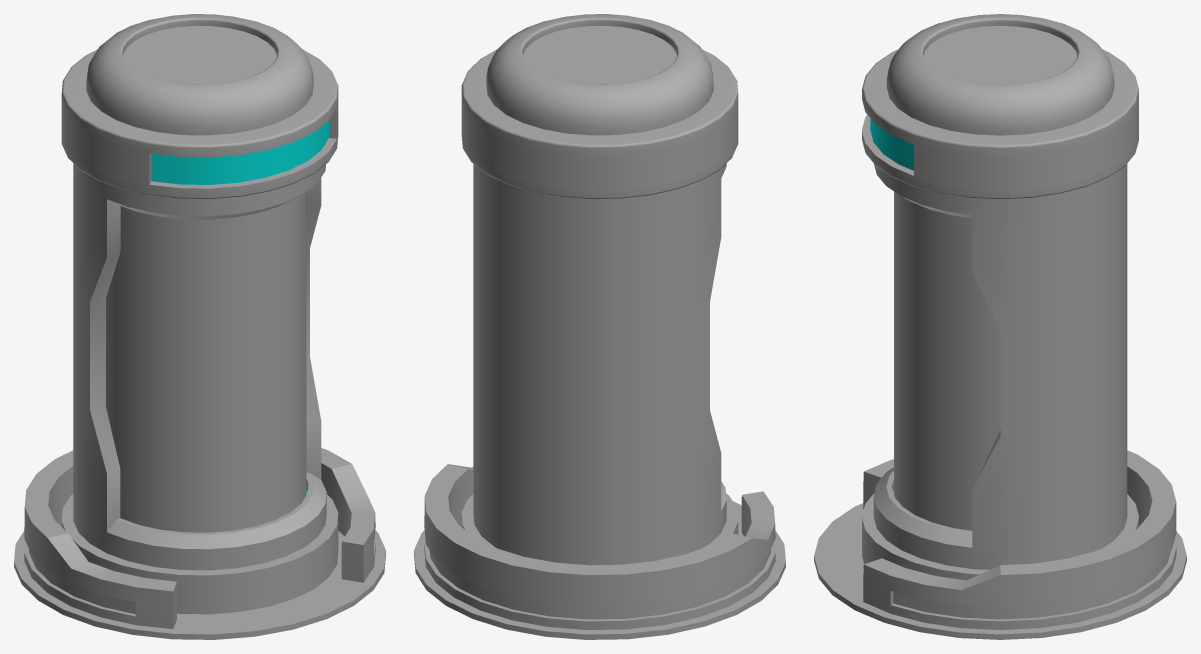
File: Earthlab_Capsule_UNWRAPPED_Week14.fbx
3 renders of one model, left to right at view 1: azimuth 30°, elevation 25°; view 2: azimuth 150°, elevation 25°; view 3: azimuth 270°, elevation 25°, orthographic.
Parts seen in each view (by area): view 1: polySurface33; view 2: polySurface33; view 3: polySurface33.
Boxes of the visible parts, left/top/right/bottom form: polySurface33: left=14, top=14, right=385, bottom=639; polySurface33: left=414, top=14, right=785, bottom=639; polySurface33: left=814, top=14, right=1186, bottom=639.
Bounding box in the file's own units: 4.22 × 6.37 × 4.22.
